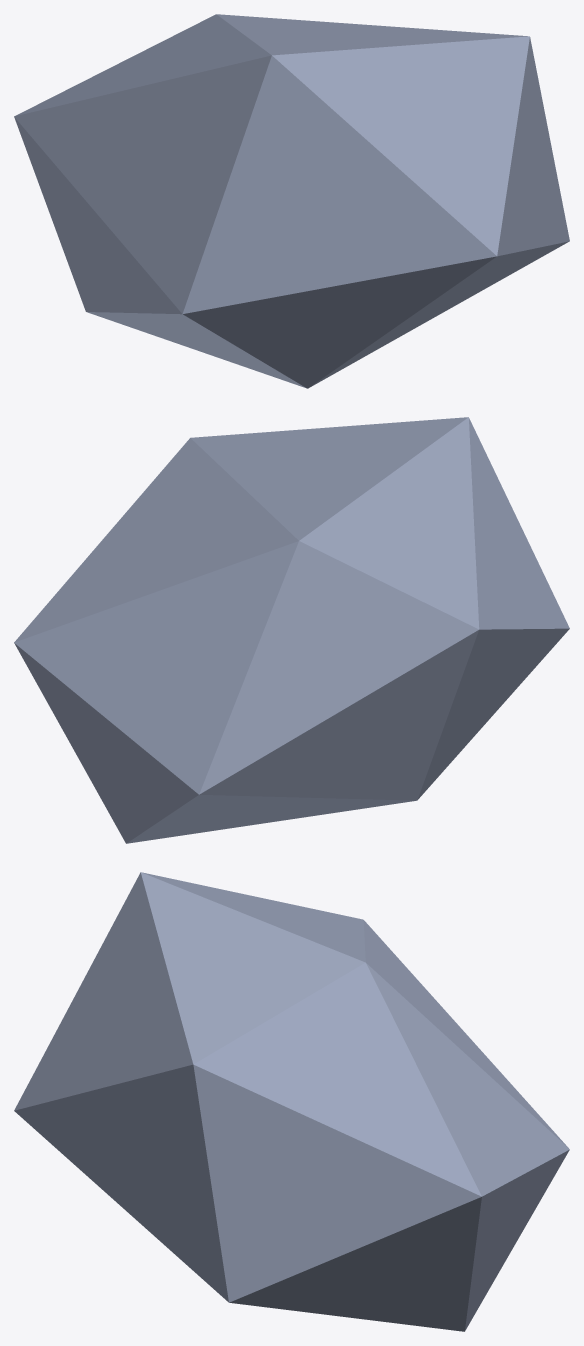
The model's file is Stone 1.fbx.
The picture shows the model from 3 angles, top to bottom: view 1: azimuth 30°, elevation 25°; view 2: azimuth 150°, elevation 25°; view 3: azimuth 270°, elevation 25°; orthographic projection. The views are drawn at different scales.
Visible parts, largest first — view 1: Cube.001; view 2: Cube.001; view 3: Cube.001.
Part boxes in pixels (x1=…): Cube.001: x1=14, y1=14, x2=569, y2=388; Cube.001: x1=14, y1=417, x2=569, y2=843; Cube.001: x1=14, y1=872, x2=569, y2=1331.
Bounding box in the file's own units: 312 × 250 × 344.
